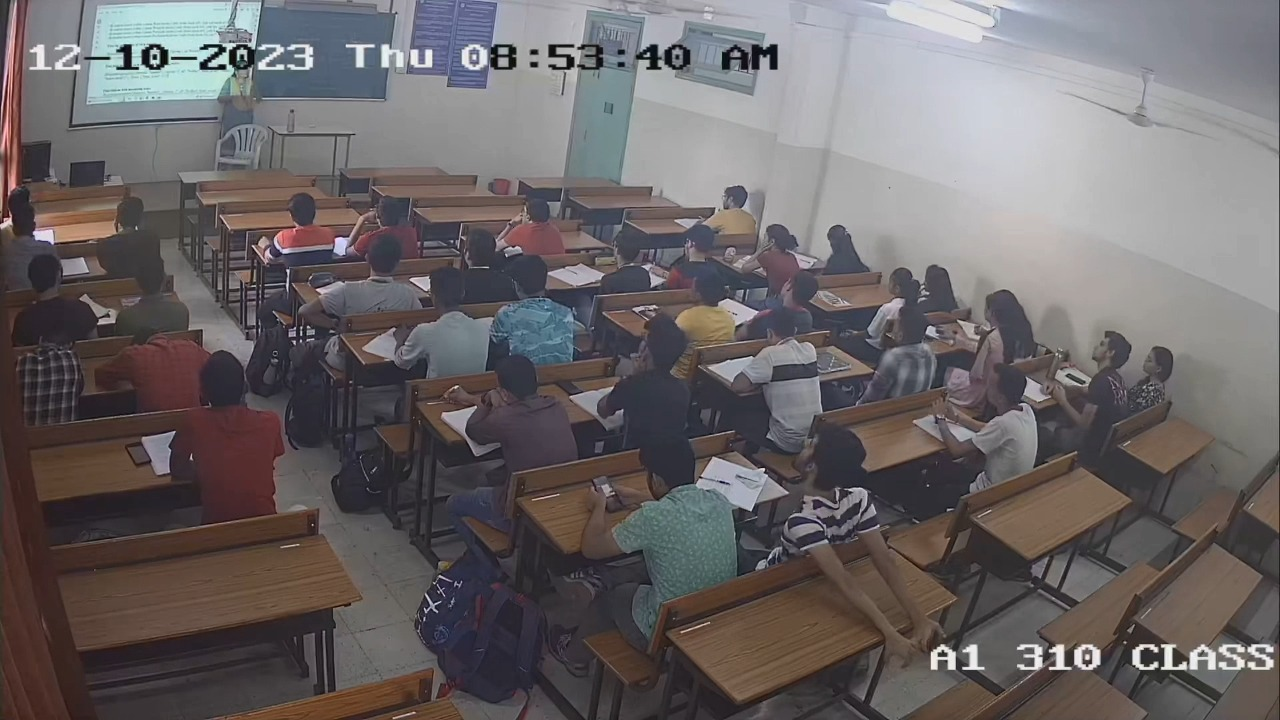cell-phones: (589, 472, 625, 515), (123, 439, 155, 468), (552, 375, 585, 397), (592, 252, 619, 267), (1064, 371, 1088, 387)
person: (585, 434, 739, 578), (170, 349, 286, 513), (599, 316, 692, 434), (598, 230, 651, 293), (1128, 346, 1175, 404)
